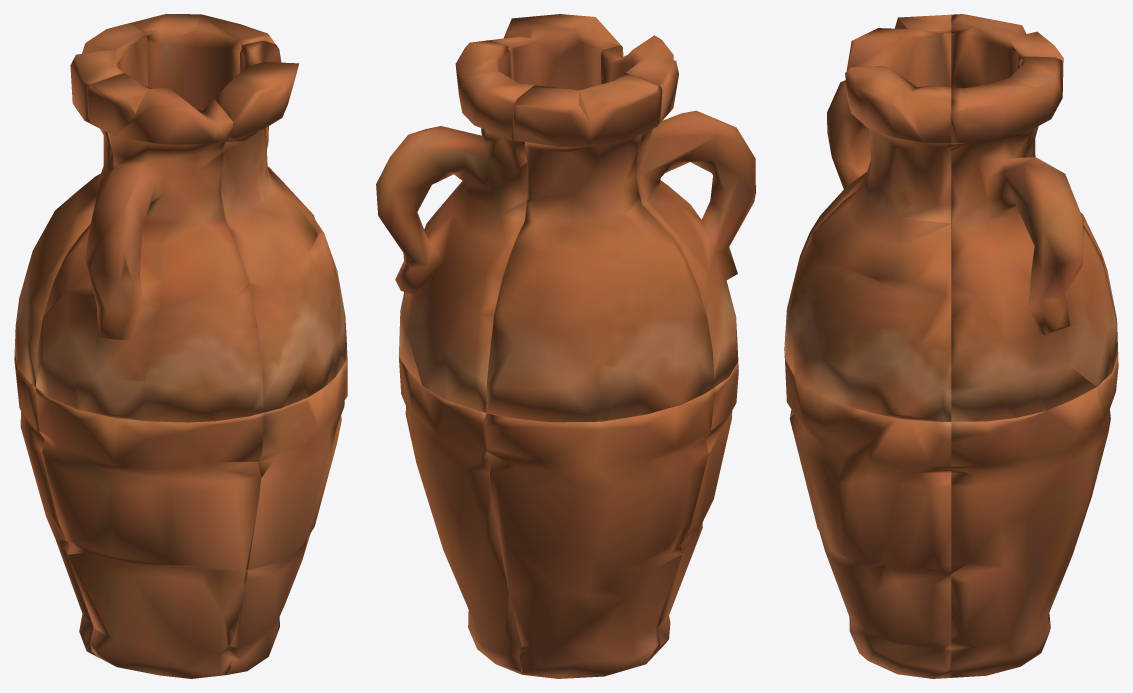
File: jarron_alto_fragmentos.glb
3 renders of one model, left to right at view 1: azimuth 30°, elevation 25°; view 2: azimuth 150°, elevation 25°; view 3: azimuth 270°, elevation 25°, orthographic.
Visible parts, largest first — view 1: fragmento_06, fragmento_07, fragmento_02, fragmento_03, fragmento_04, fragmento_00, fragmento_05; view 2: fragmento_04, fragmento_05, fragmento_00, fragmento_06, fragmento_01, fragmento_02, fragmento_07; view 3: fragmento_00, fragmento_02, fragmento_03, fragmento_01, fragmento_06, fragmento_04.
Boxes of the visible parts, x1=… form: fragmento_06: x1=36, y1=73, x2=263, y2=422; fragmento_07: x1=36, y1=388, x2=263, y2=678; fragmento_02: x1=214, y1=40, x2=346, y2=412; fragmento_03: x1=225, y1=349, x2=347, y2=675; fragmento_04: x1=14, y1=23, x2=148, y2=387; fragmento_00: x1=129, y1=14, x2=279, y2=178; fragmento_05: x1=14, y1=351, x2=96, y2=656; fragmento_04: x1=486, y1=73, x2=714, y2=422; fragmento_05: x1=486, y1=388, x2=714, y2=678; fragmento_00: x1=376, y1=40, x2=534, y2=412; fragmento_06: x1=601, y1=35, x2=755, y2=387; fragmento_01: x1=399, y1=357, x2=524, y2=674; fragmento_02: x1=488, y1=14, x2=620, y2=90; fragmento_07: x1=656, y1=361, x2=738, y2=653; fragmento_00: x1=951, y1=56, x2=1117, y2=421; fragmento_02: x1=785, y1=66, x2=951, y2=421; fragmento_03: x1=784, y1=353, x2=951, y2=678; fragmento_01: x1=951, y1=352, x2=1118, y2=677; fragmento_06: x1=784, y1=14, x2=951, y2=347; fragmento_04: x1=951, y1=14, x2=1117, y2=343.
Bounding box in the file's own units: 0.4936 × 0.95 × 0.487.
Materials: 2 (1 with a texture image).
